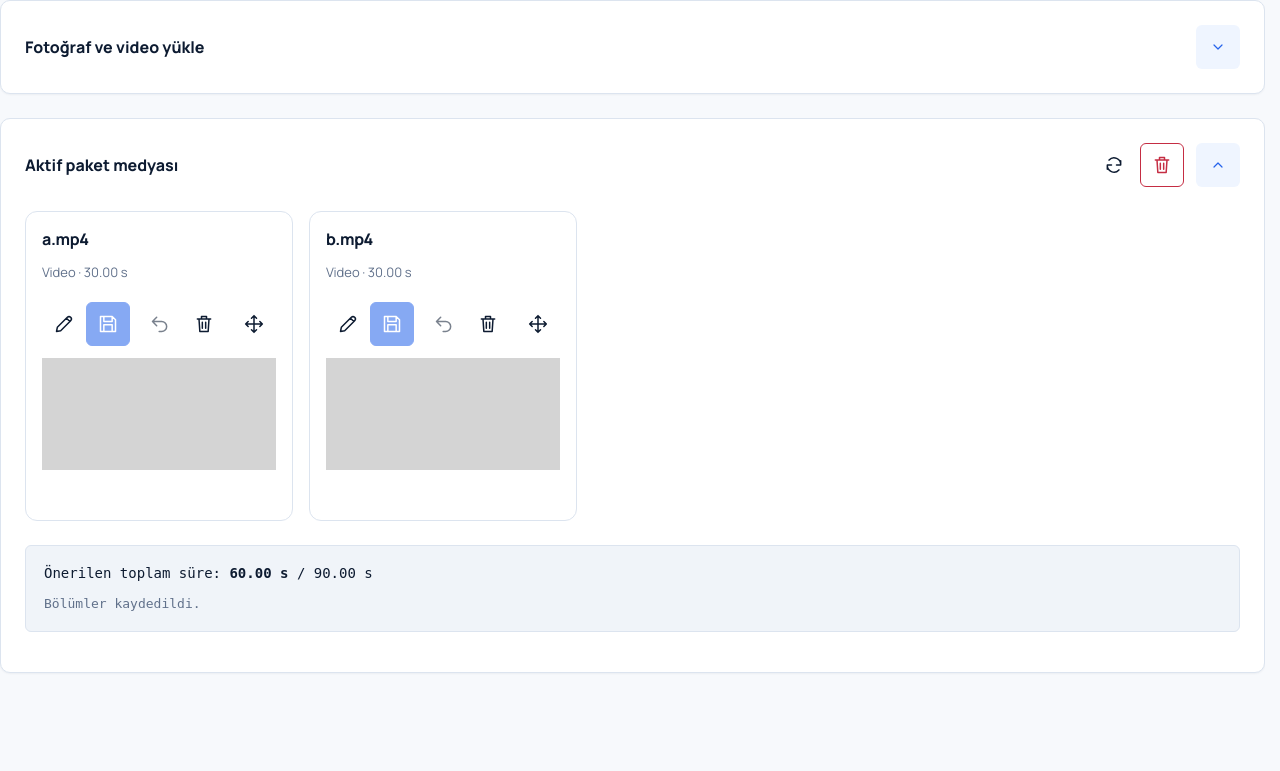
it: failed local storage warns that draft is not recoverable after closing
This screenshot has width=1280, height=771.
Expected: the heading "a.mp4" is shown, [42, 228, 89, 250]
Expected: the button named "a.mp4 sırasını sürükle" is enabled, [232, 302, 276, 346]
Step 1. Click the button named "a.mp4 bölümlerini düzenle" → (64, 324), box [42, 302, 86, 346]
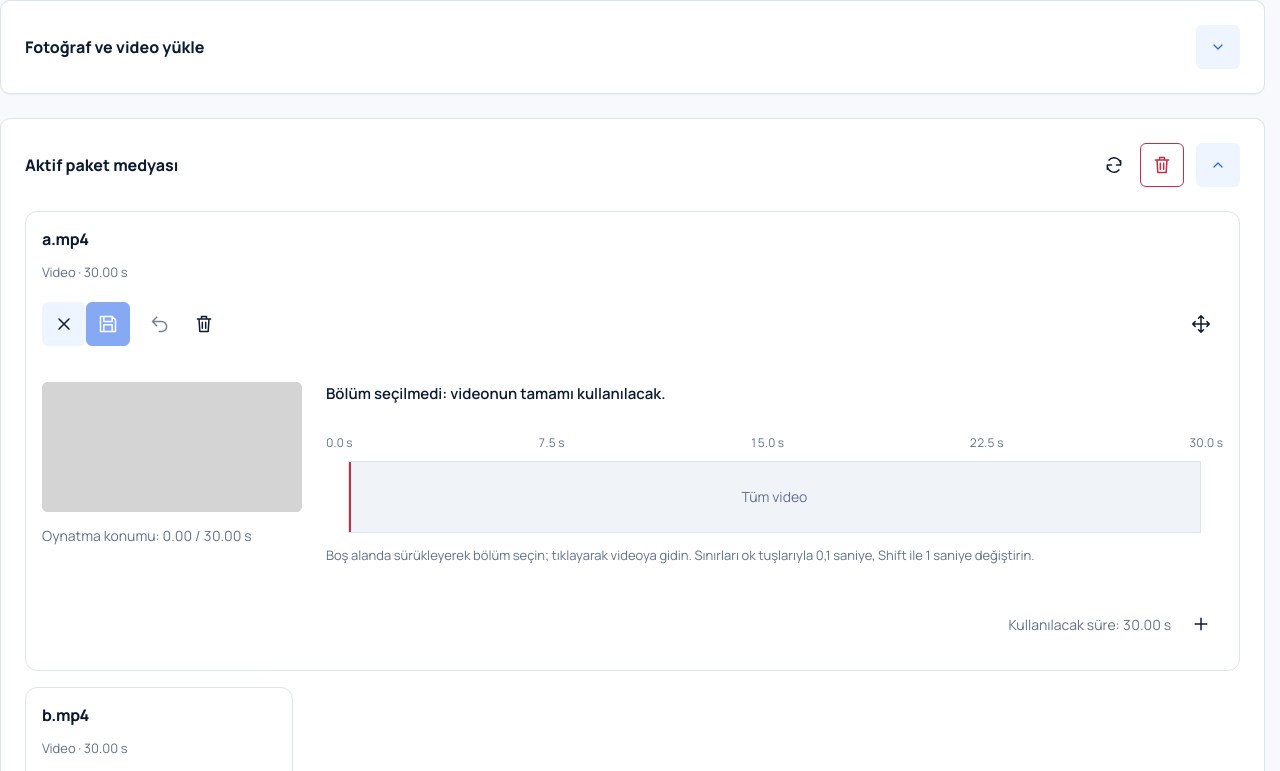
Step 2. Click the button named "Bölüm ekle" → (1201, 624), box [1179, 602, 1223, 646]
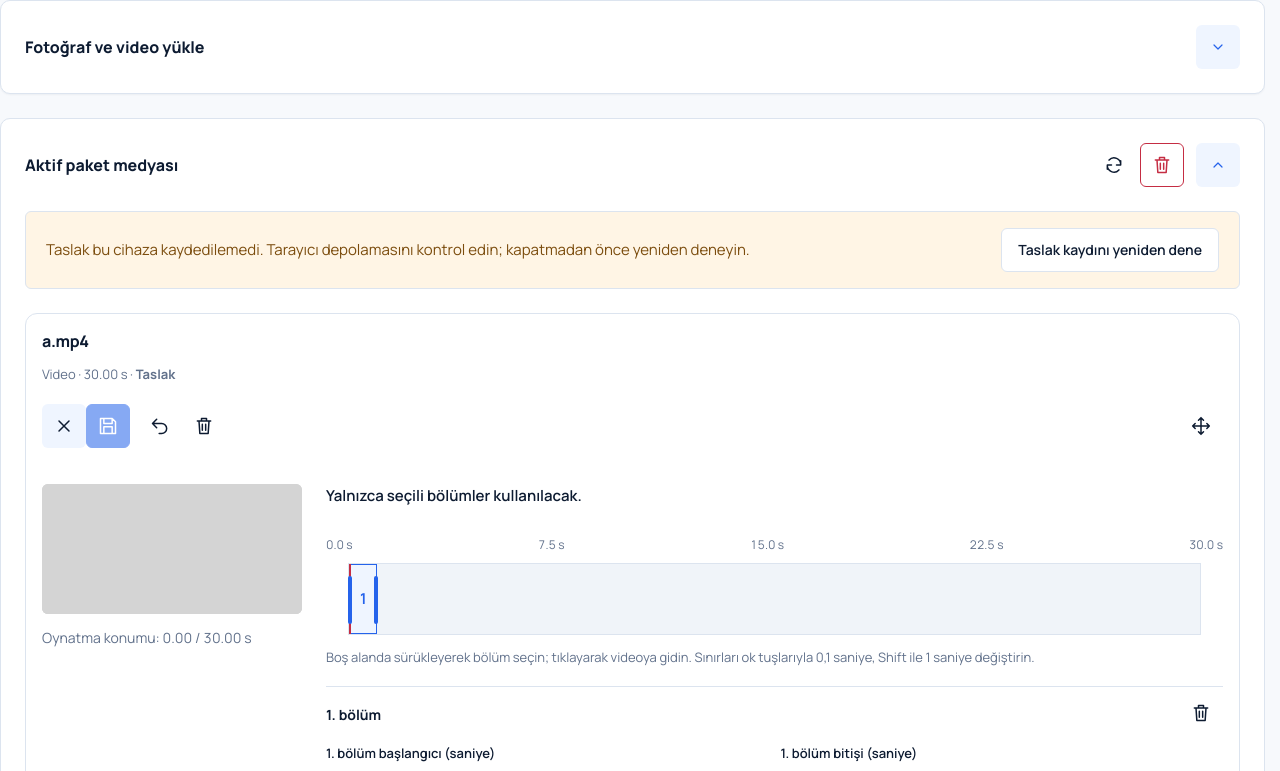
Expected: the button named "Bölümleri kaydet" is disabled, [86, 404, 130, 448]
Expected: the text "Taslak bu cihaza kaydedilemedi" is shown, [46, 239, 750, 260]
Expected: the button "Taslak kaydını yeniden dene" is enabled, [1001, 228, 1219, 272]
